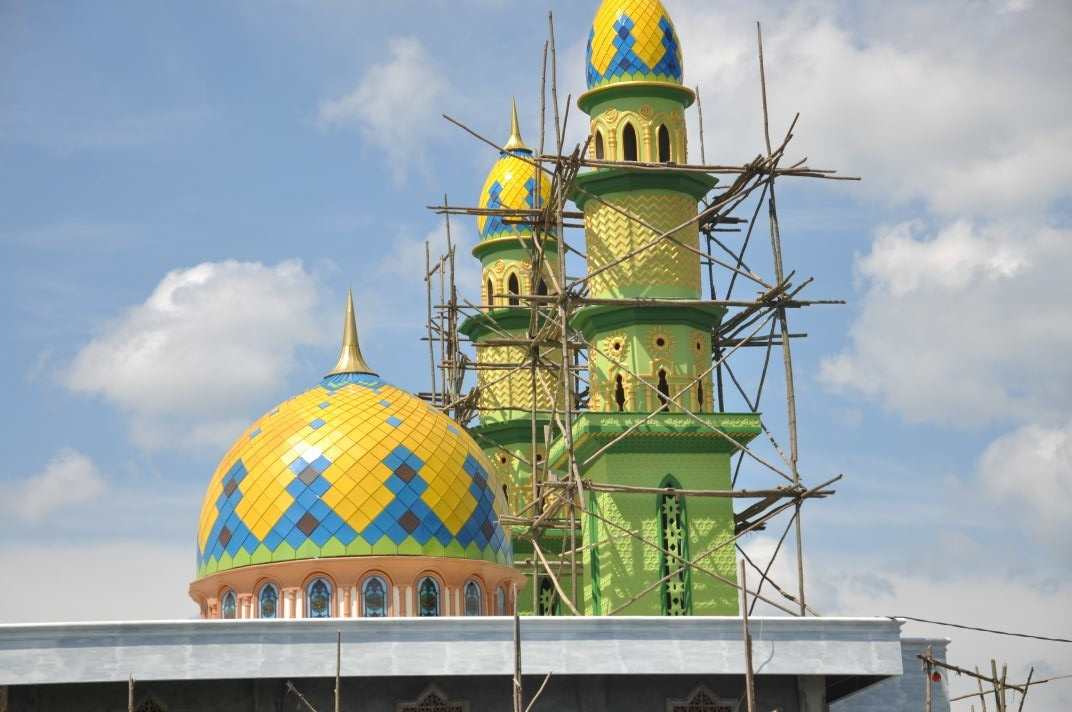Mosque: (180, 272, 514, 607)
